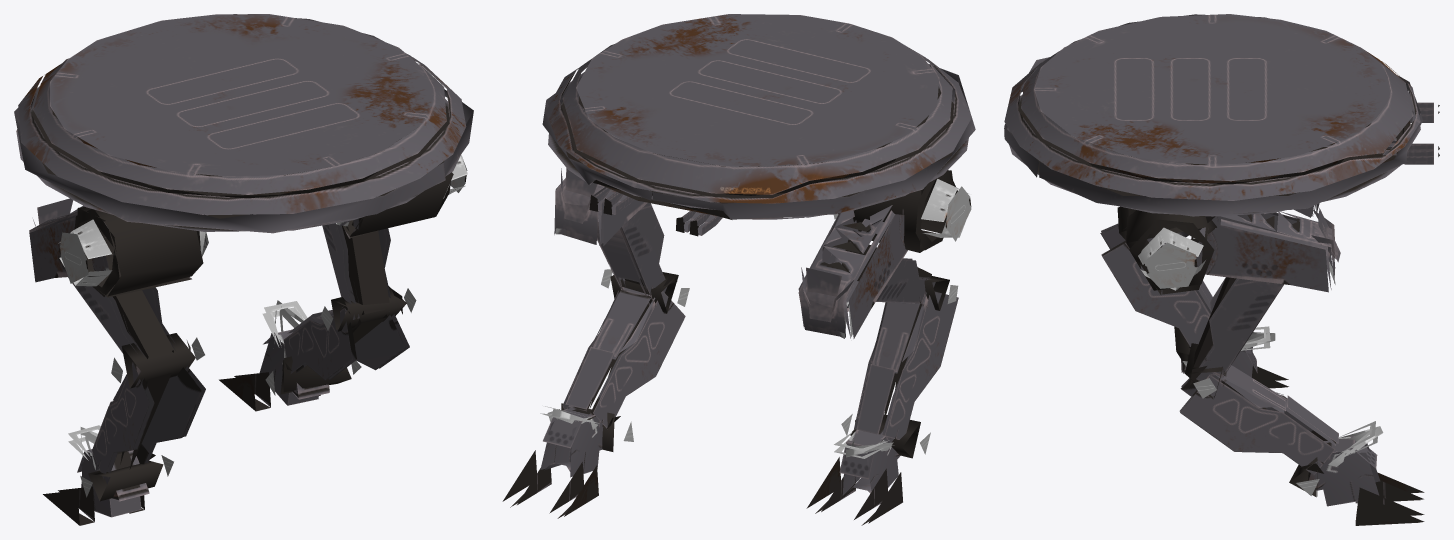
Rendered from robot_tank.glb.
The picture shows the model from 3 angles, left to right: view 1: azimuth 30°, elevation 25°; view 2: azimuth 150°, elevation 25°; view 3: azimuth 270°, elevation 25°; orthographic projection. The views are drawn at different scales.
Visible parts, largest first — view 1: robot_tank; view 2: robot_tank; view 3: robot_tank.
Boxes of the visible parts, bbox=[...] form: robot_tank: bbox=[14, 14, 473, 525]; robot_tank: bbox=[502, 14, 975, 525]; robot_tank: bbox=[1004, 14, 1439, 525].
Bounding box in the file's own units: 2.41 × 2.31 × 2.5.
1 material, 1 textured.
